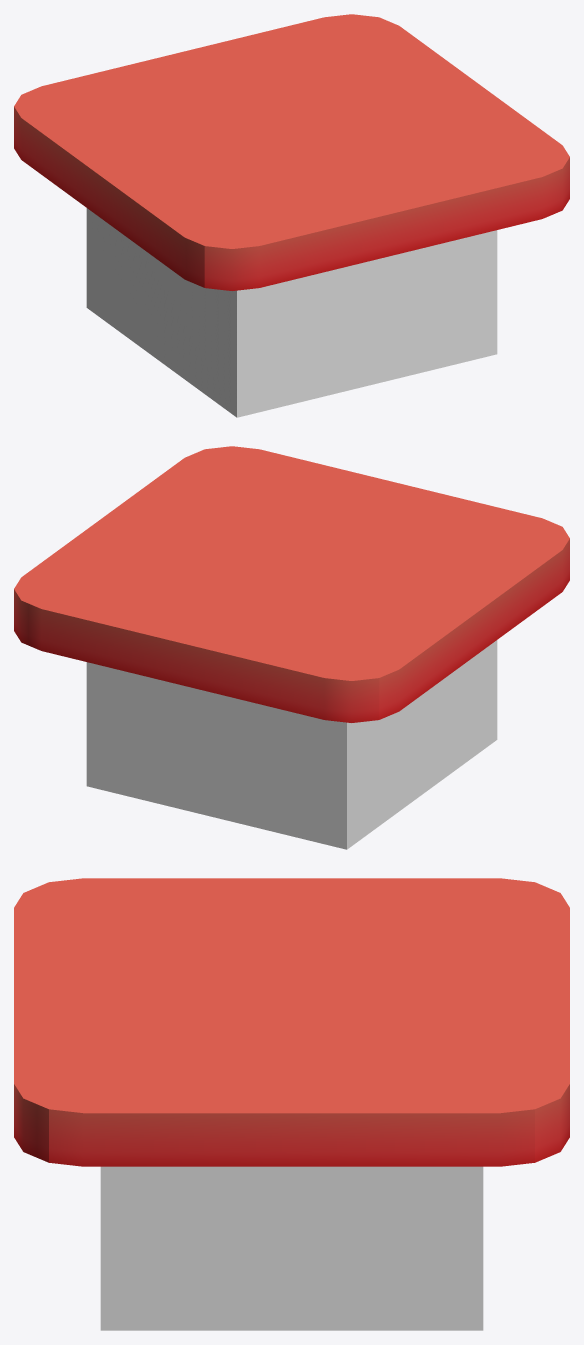
File: Pool_Cube_2.fbx
The picture shows the model from 3 angles, top to bottom: view 1: azimuth 30°, elevation 25°; view 2: azimuth 150°, elevation 25°; view 3: azimuth 270°, elevation 25°; orthographic projection. The views are drawn at different scales.
Visible parts, largest first — view 1: Pool_Cube_2; view 2: Pool_Cube_2; view 3: Pool_Cube_2.
Boxes of the visible parts, x1,y1,x2,y2 form: Pool_Cube_2: (14,14,569,417); Pool_Cube_2: (14,446,569,849); Pool_Cube_2: (14,878,569,1330).
Size of the model in its own units: 116 by 58.49 by 116.
